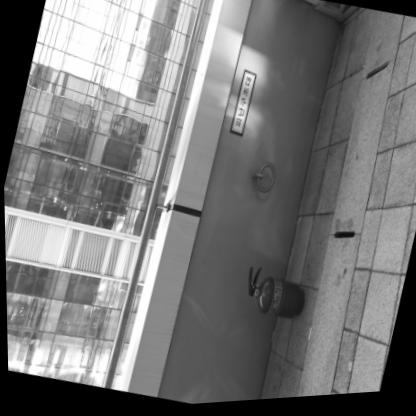FE: (237, 268, 306, 327)
